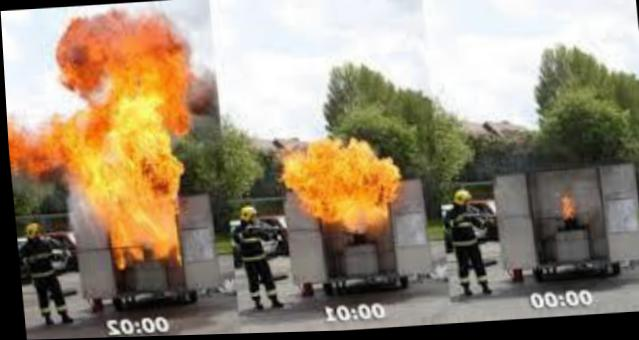fire: (26, 2, 209, 272), (274, 134, 408, 234), (531, 191, 584, 229)
